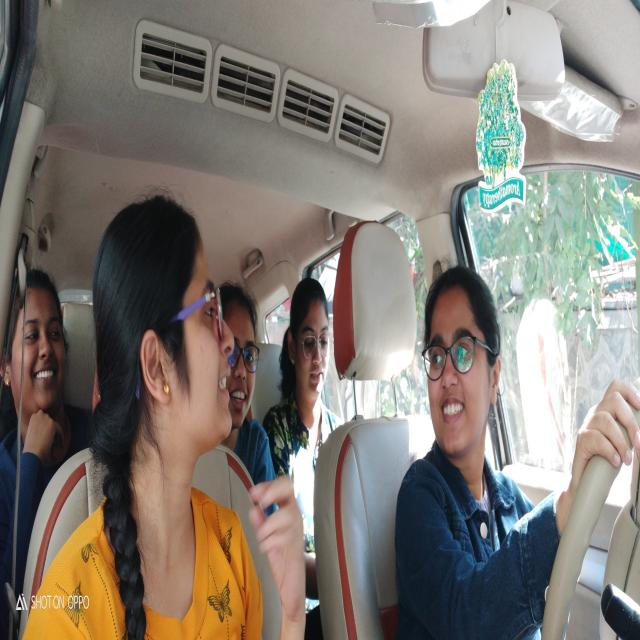LeftRight: (416, 254, 504, 472)
person: (96, 184, 239, 508), (10, 264, 74, 428), (221, 252, 263, 466), (288, 259, 333, 431)
